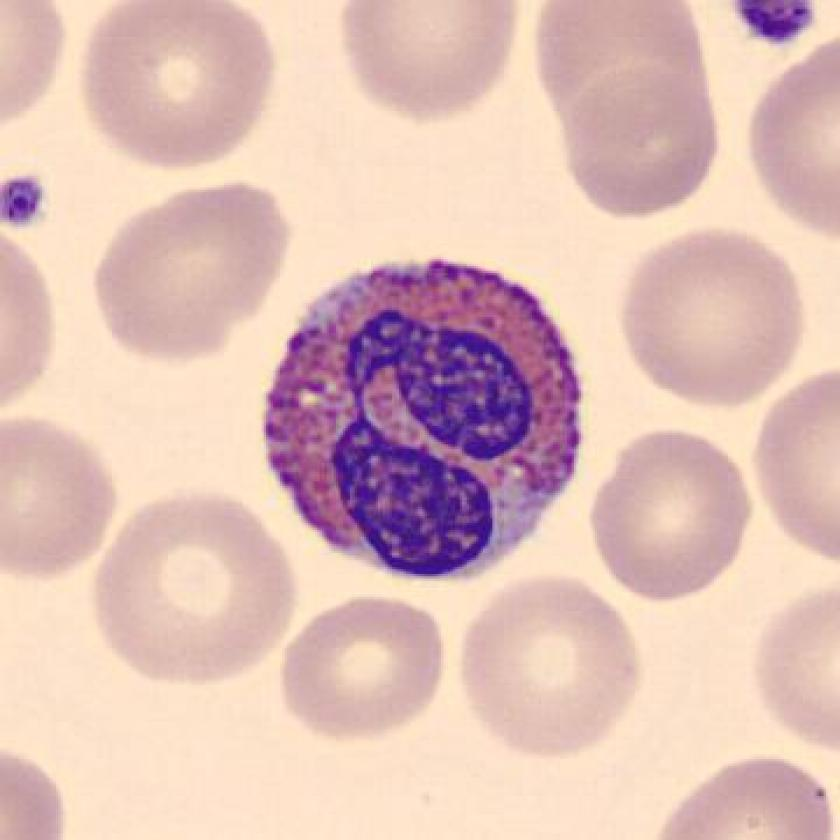eosinophil: (251, 239, 598, 598)
